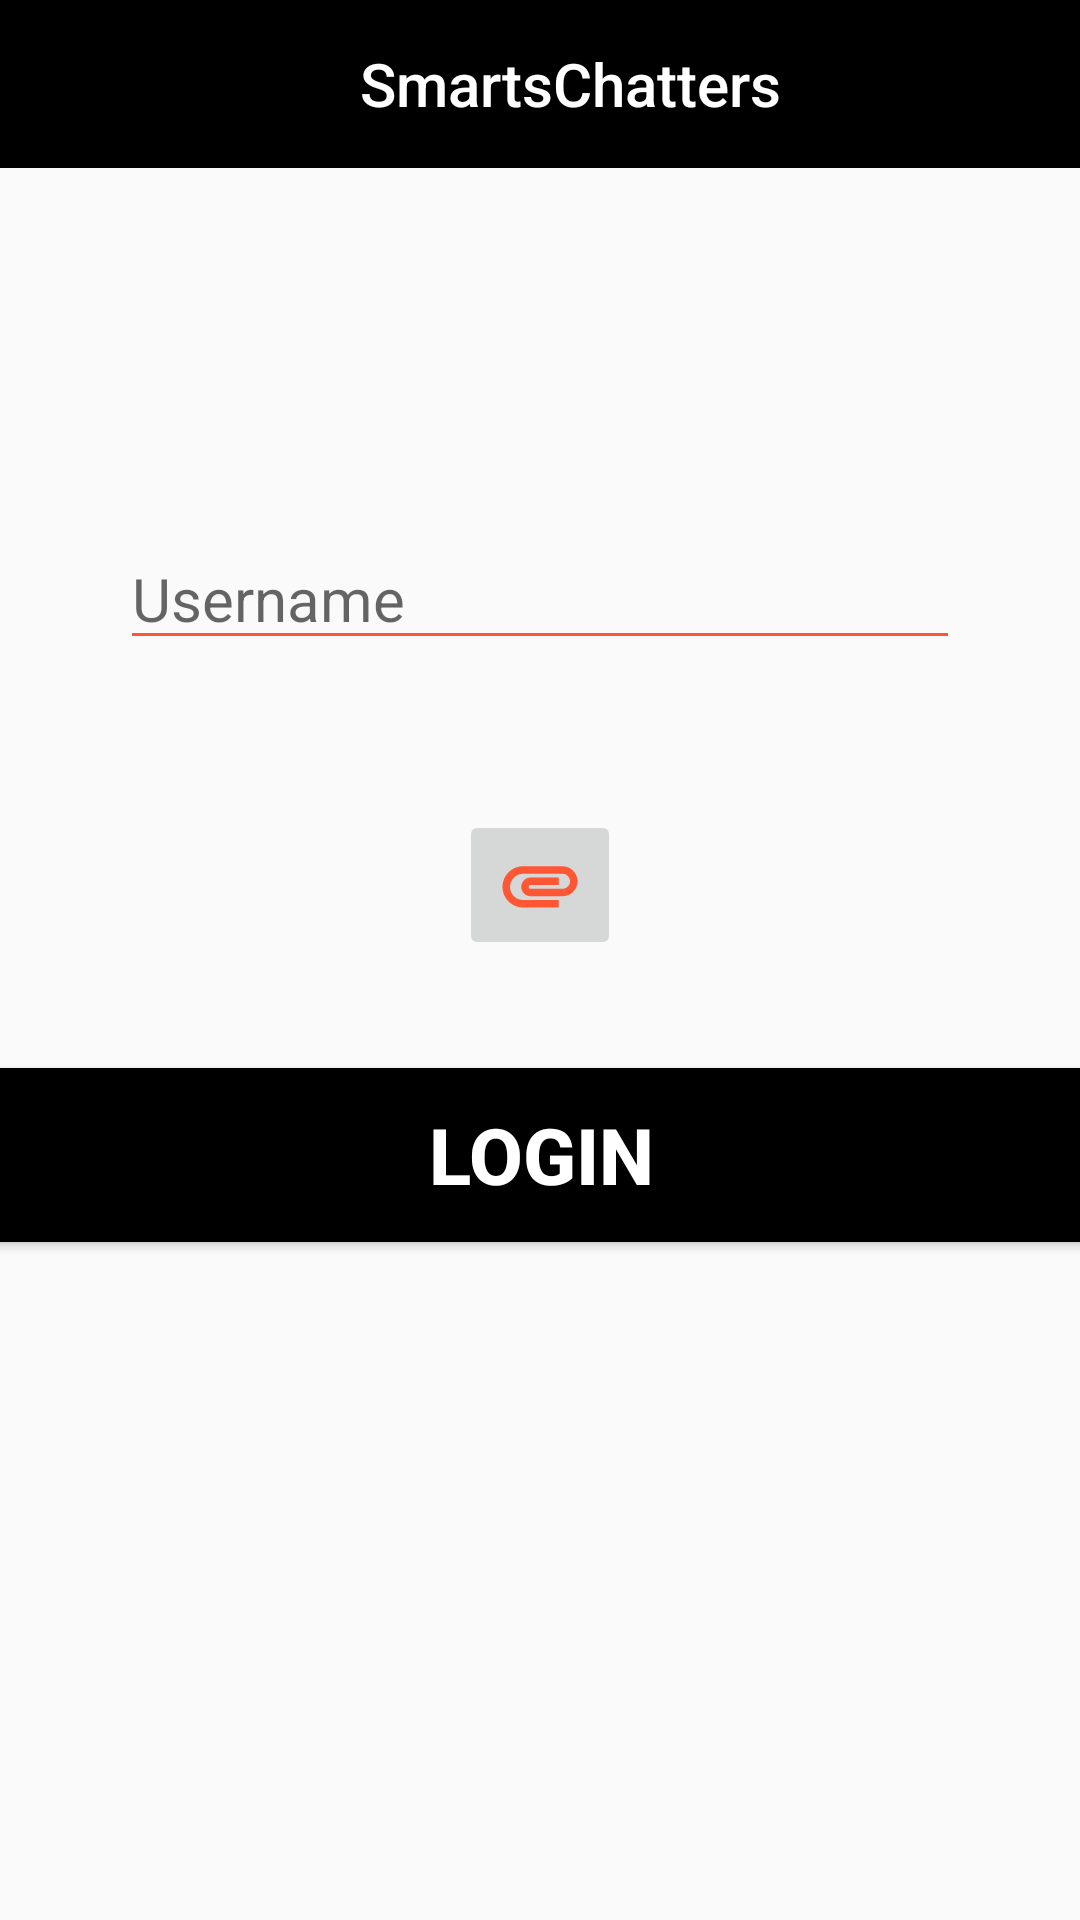

Locate icon controls on the screen. Image size 1080px x 1920px, boxes as box=[x1, y1, x2, y2].
attach file: box=[471, 828, 609, 942]
